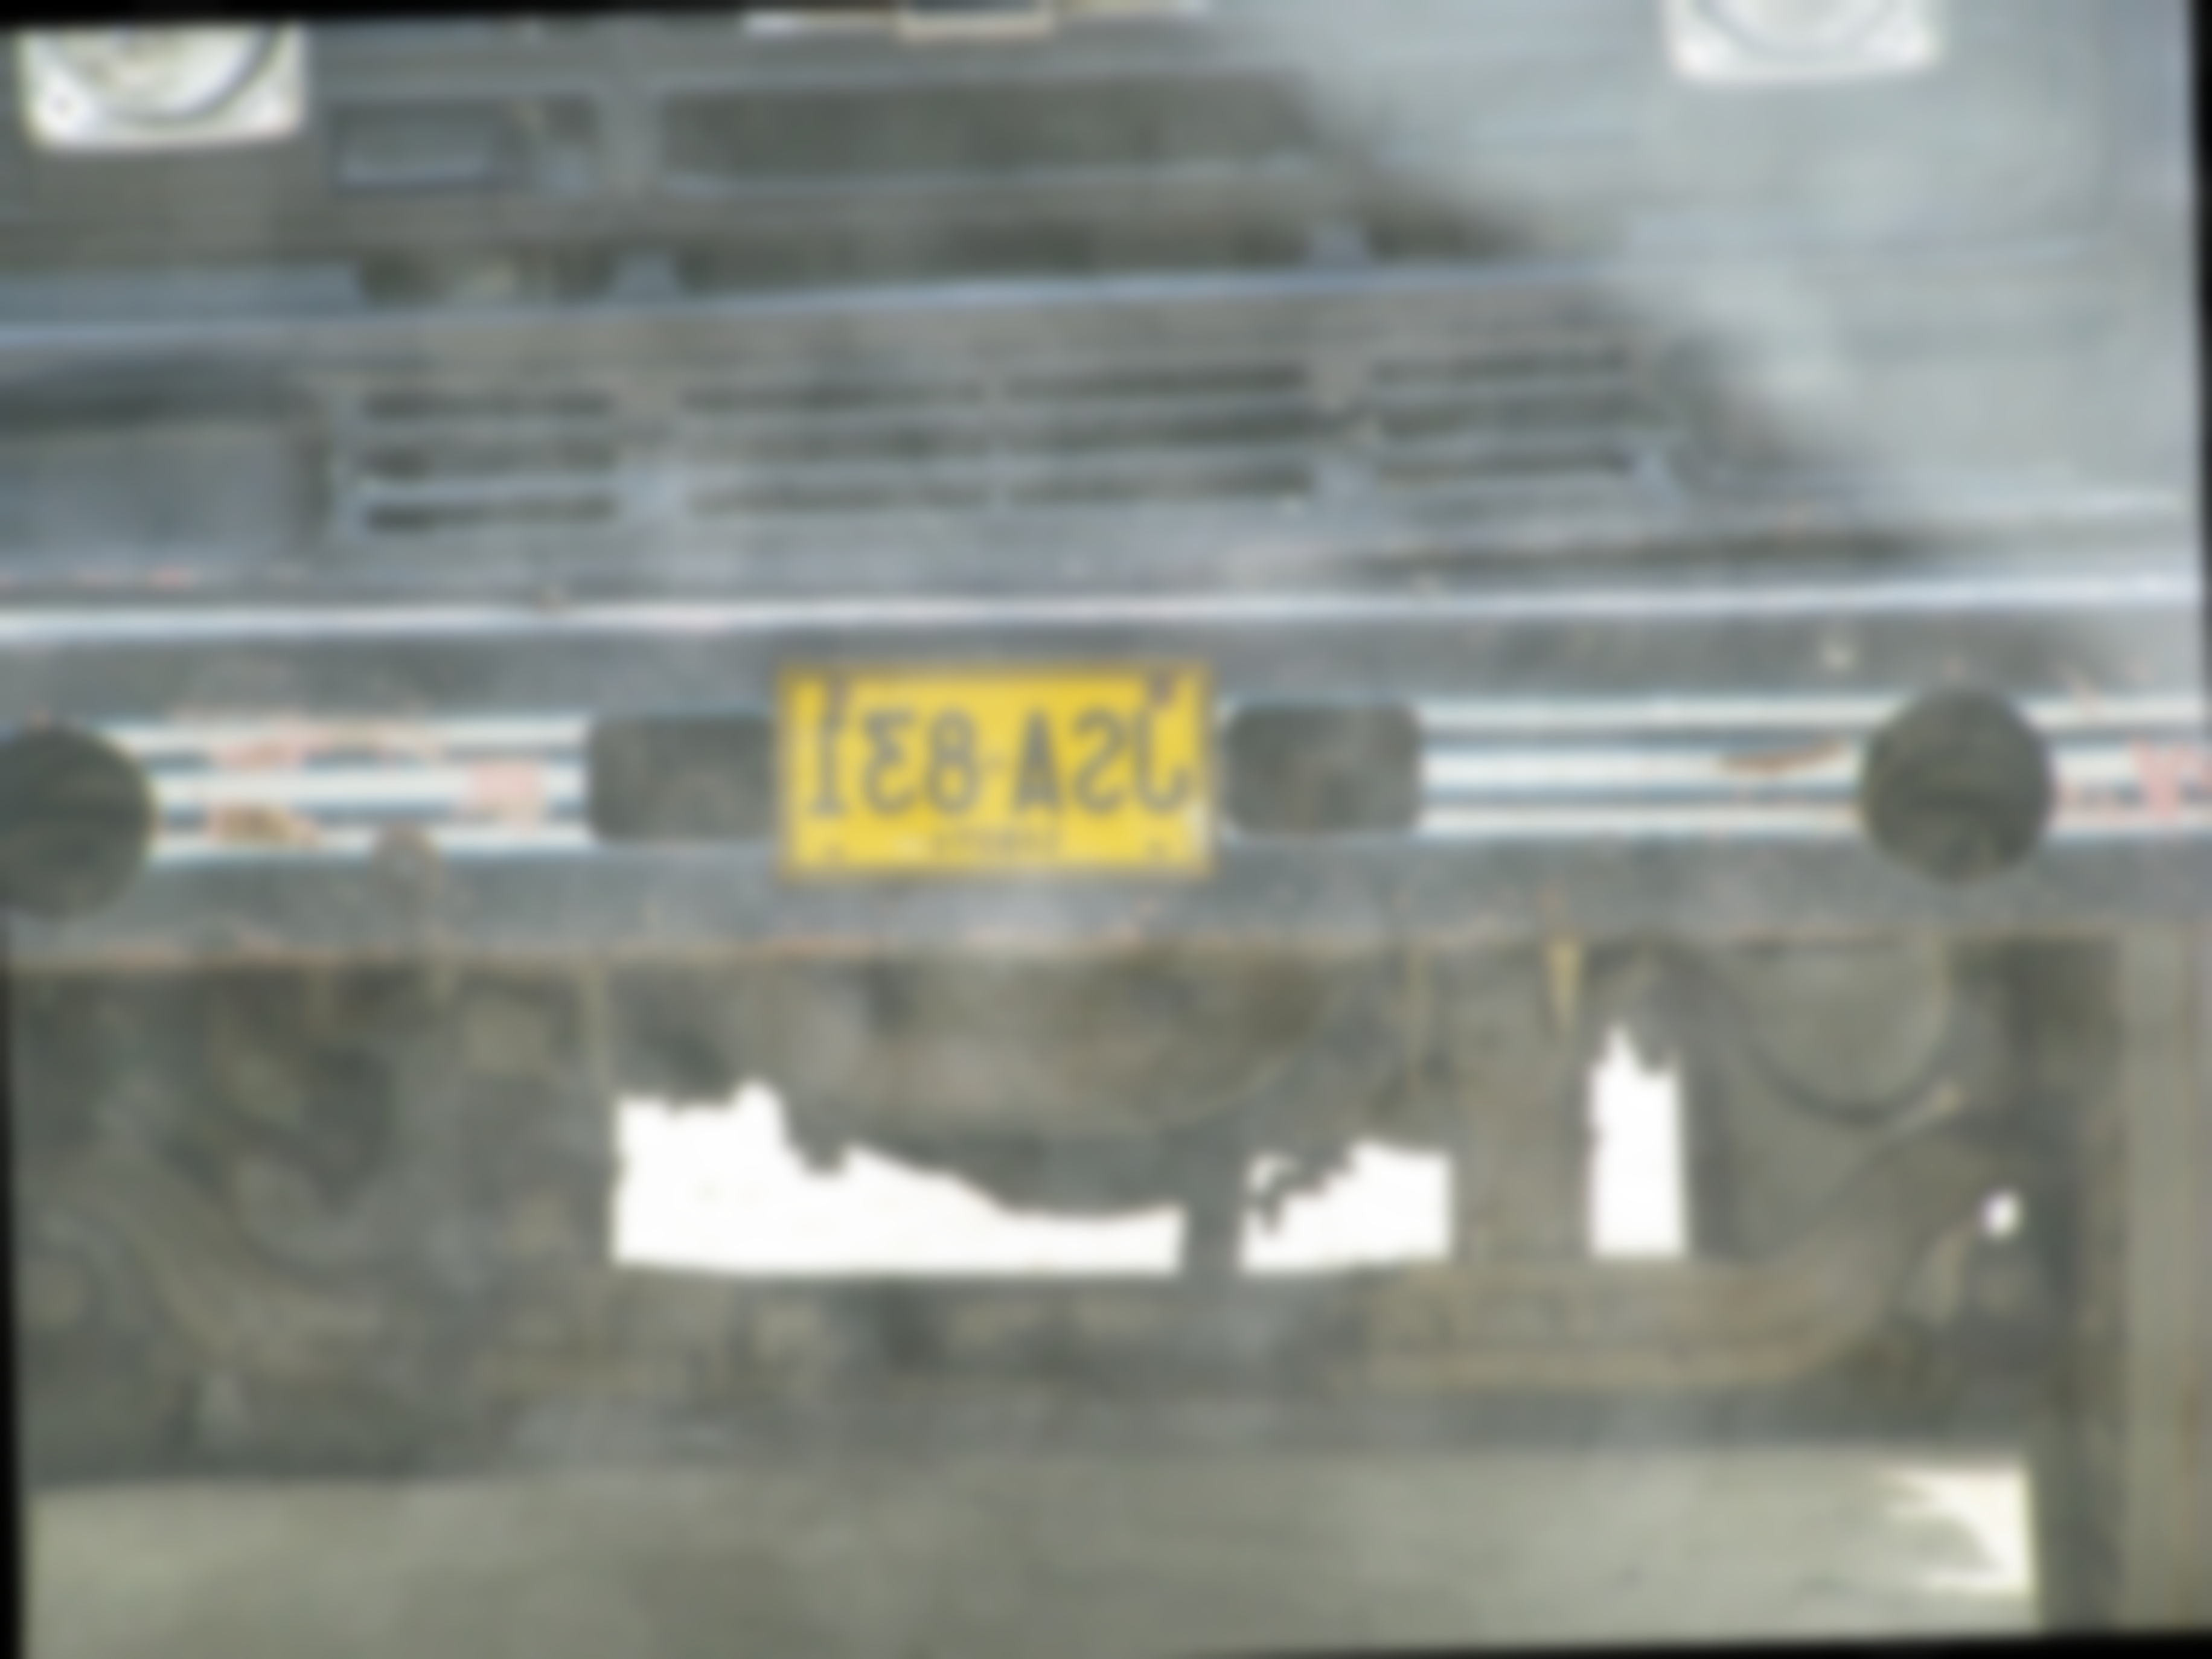placas: (766, 642, 1225, 893)
